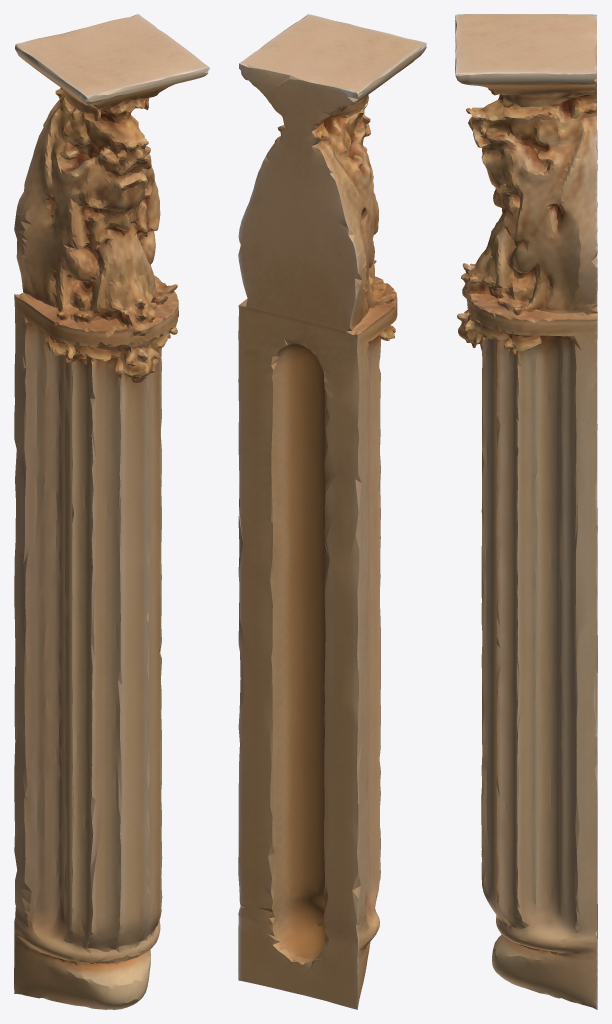
The model's file is renaissance_column.glb.
The picture shows the model from 3 angles, left to right: view 1: azimuth 30°, elevation 25°; view 2: azimuth 150°, elevation 25°; view 3: azimuth 270°, elevation 25°; orthographic projection. The views are drawn at different scales.
Visible parts, largest first — view 1: renaissance_column; view 2: renaissance_column; view 3: renaissance_column.
Boxes of the visible parts, box(x1,y1,x2,y2) form: renaissance_column: box(14, 14, 209, 1009); renaissance_column: box(238, 14, 426, 1009); renaissance_column: box(455, 14, 597, 1009).
Size of the model in its own units: 0.2603 by 1.9 by 0.2617.
Materials: 1 (1 with a texture image).
